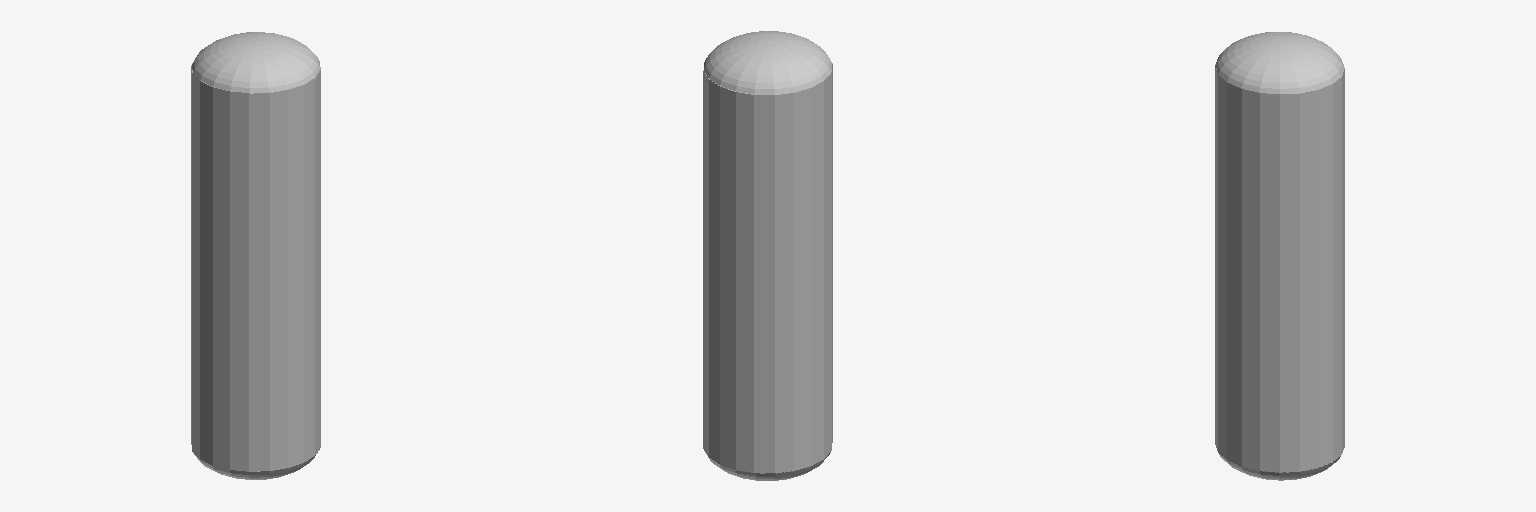
Rendered from Pilar.obj.
3 renders of one model, left to right at view 1: azimuth 30°, elevation 25°; view 2: azimuth 150°, elevation 25°; view 3: azimuth 270°, elevation 25°, orthographic.
Parts seen in each view (by area): view 1: pCylinder1, pSphere2, pSphere3; view 2: pCylinder1, pSphere2, pSphere3; view 3: pCylinder1, pSphere2, pSphere3.
Boxes of the visible parts, box(x1,y1,x2,y2) form: pCylinder1: box(191, 63, 320, 471); pSphere2: box(192, 32, 320, 93); pSphere3: box(191, 444, 319, 479); pCylinder1: box(703, 63, 832, 473); pSphere2: box(704, 31, 831, 94); pSphere3: box(705, 452, 830, 480); pCylinder1: box(1215, 59, 1344, 472); pSphere2: box(1215, 32, 1343, 93); pSphere3: box(1219, 454, 1340, 480).
Bounding box in the file's own units: 1.98 × 7.15 × 1.98.